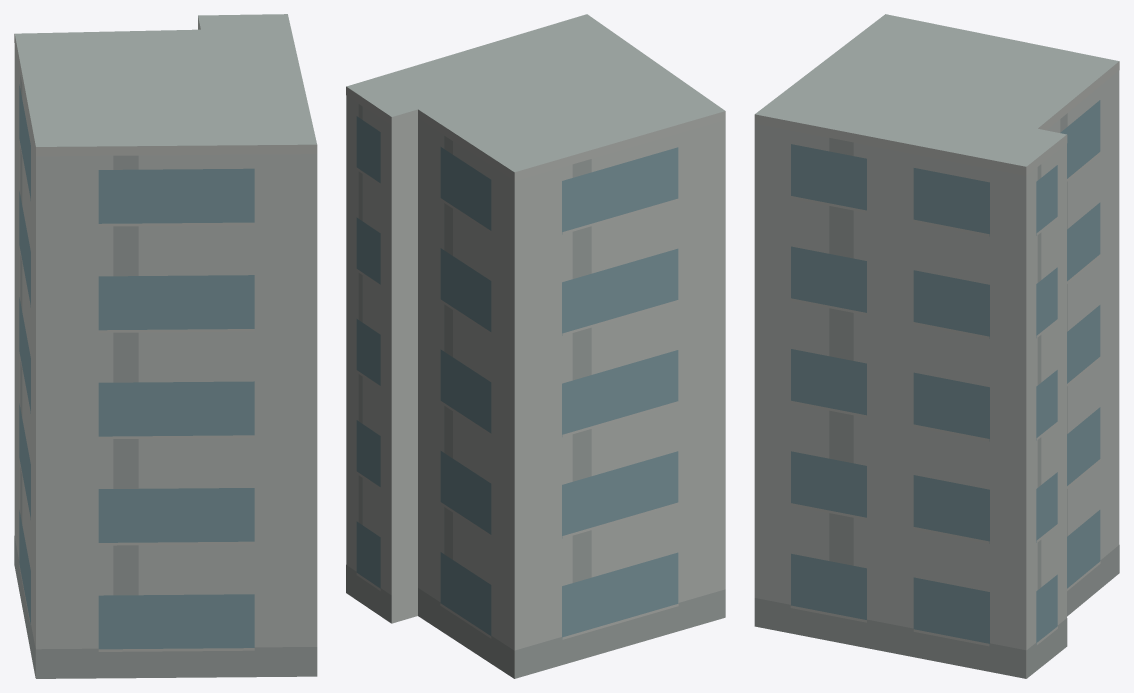
File: survey-upis-32727164.glb
3 views of the same model, side by side, from view 1: azimuth 30°, elevation 25°; view 2: azimuth 150°, elevation 25°; view 3: azimuth 270°, elevation 25° (orthographic). The views are drawn at different scales.
Parts seen in each view (by area): view 1: survey-upis-32727164.tmp; view 2: survey-upis-32727164.tmp; view 3: survey-upis-32727164.tmp.
Boxes of the visible parts, <box> form: survey-upis-32727164.tmp: <box>14,14,317,678</box>; survey-upis-32727164.tmp: <box>346,14,725,678</box>; survey-upis-32727164.tmp: <box>754,14,1119,678</box>.
Bounding box in the file's own units: 8.84 × 13.8 × 8.92.
